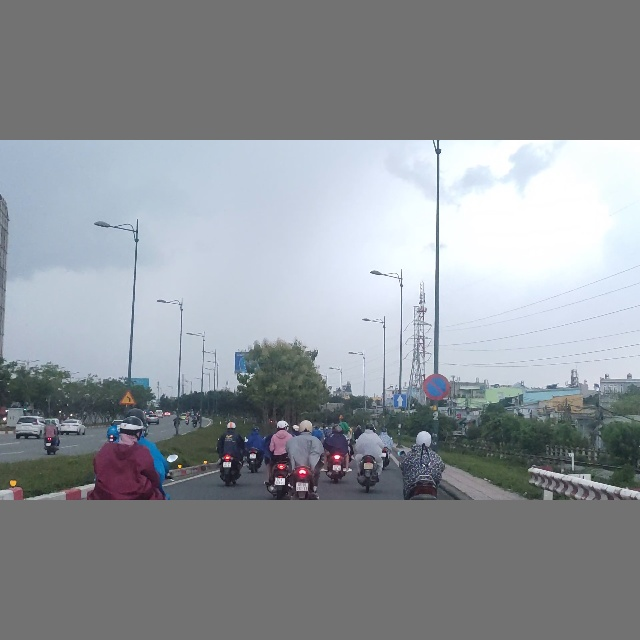I.407a: (393, 394, 407, 407)
P.130: (423, 374, 450, 399)
W.201a: (120, 390, 136, 404)
